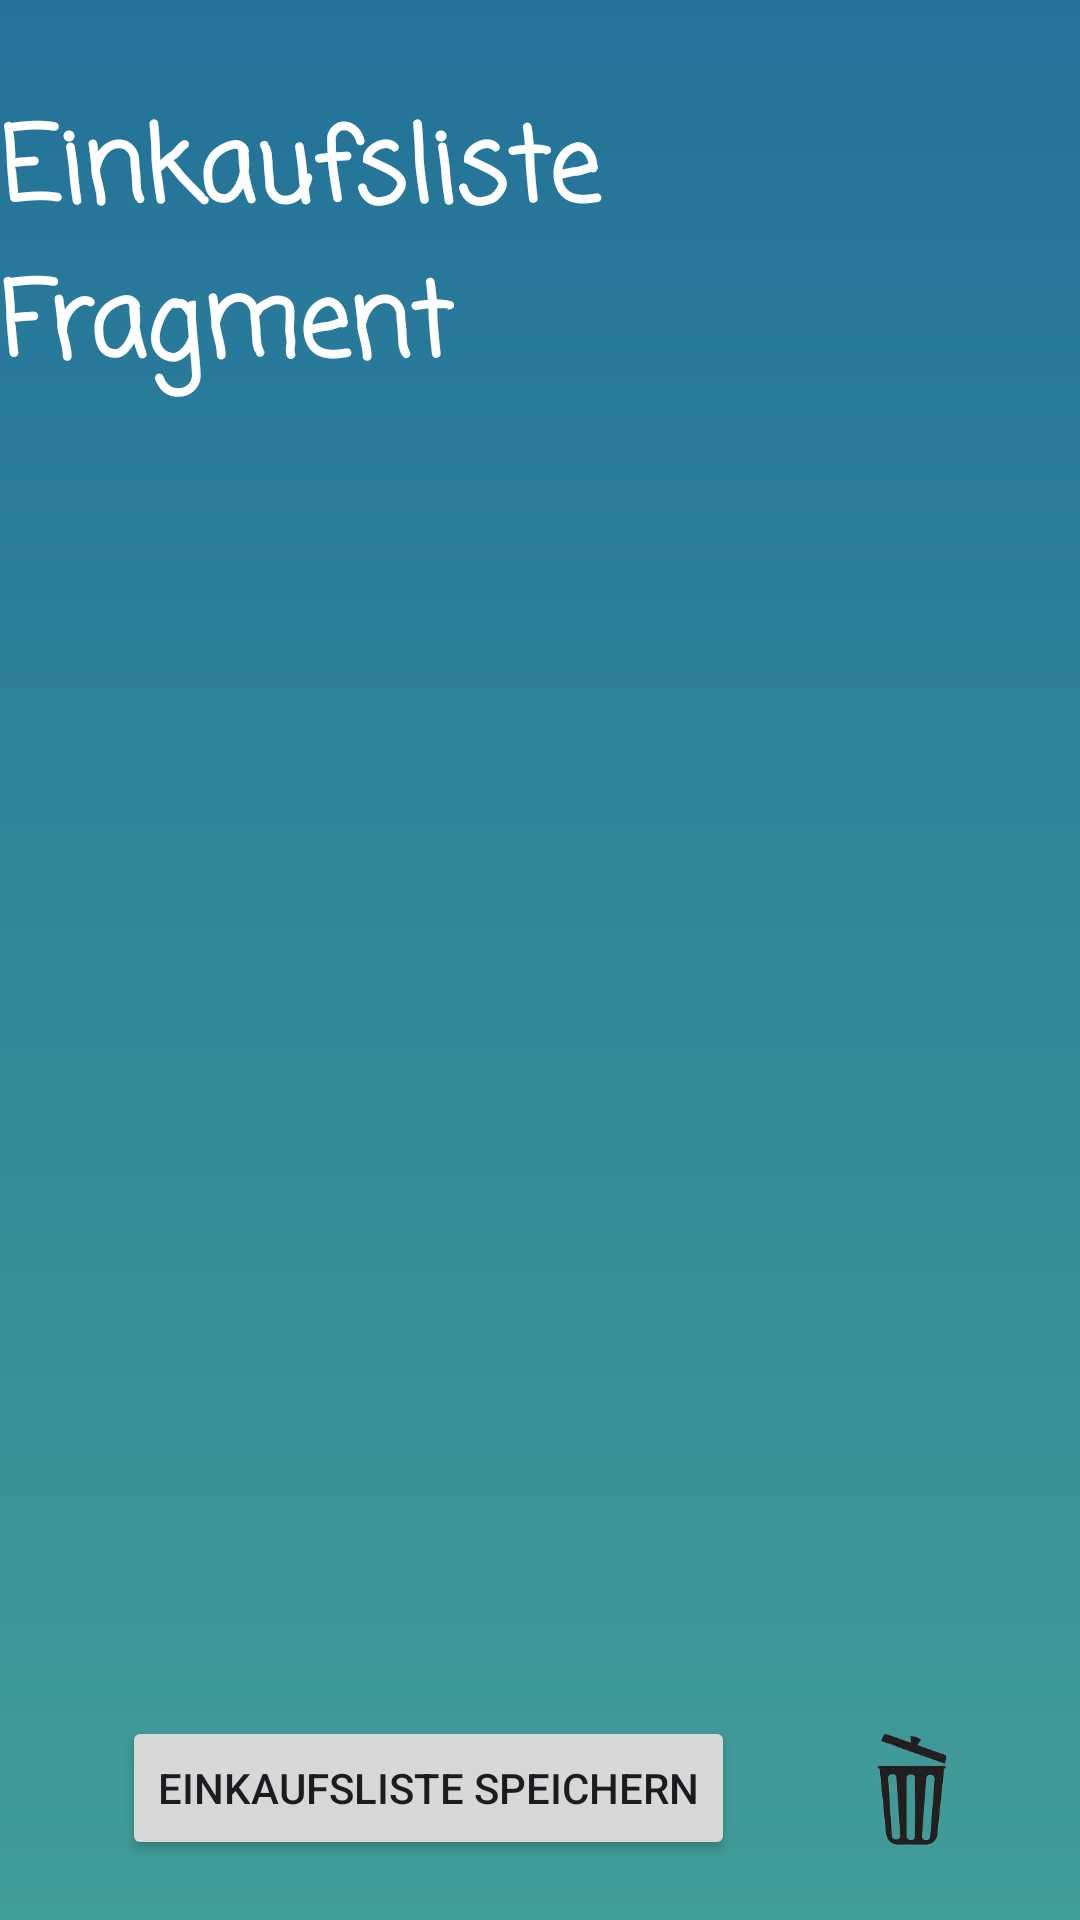

Icons on this 1080x1920 Android screen, each with its box as (x1, y1, x2, y2):
Delete Button: (878, 1734, 947, 1845)
